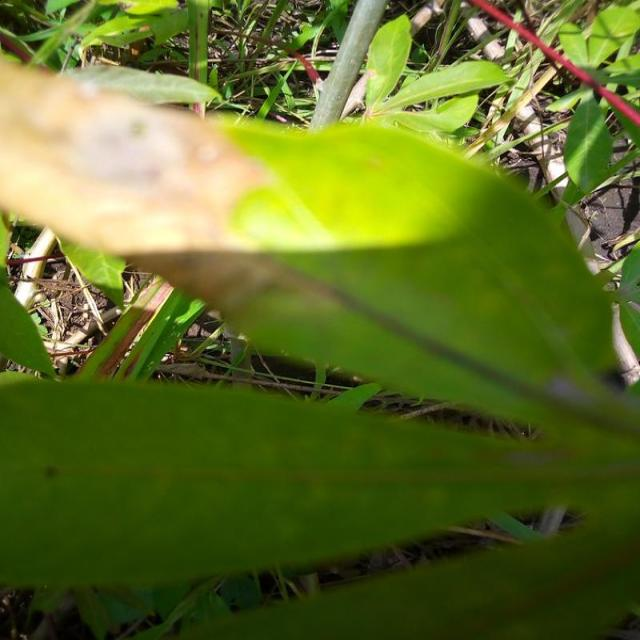cassava leaf: (2, 51, 620, 422), (0, 367, 564, 593)
